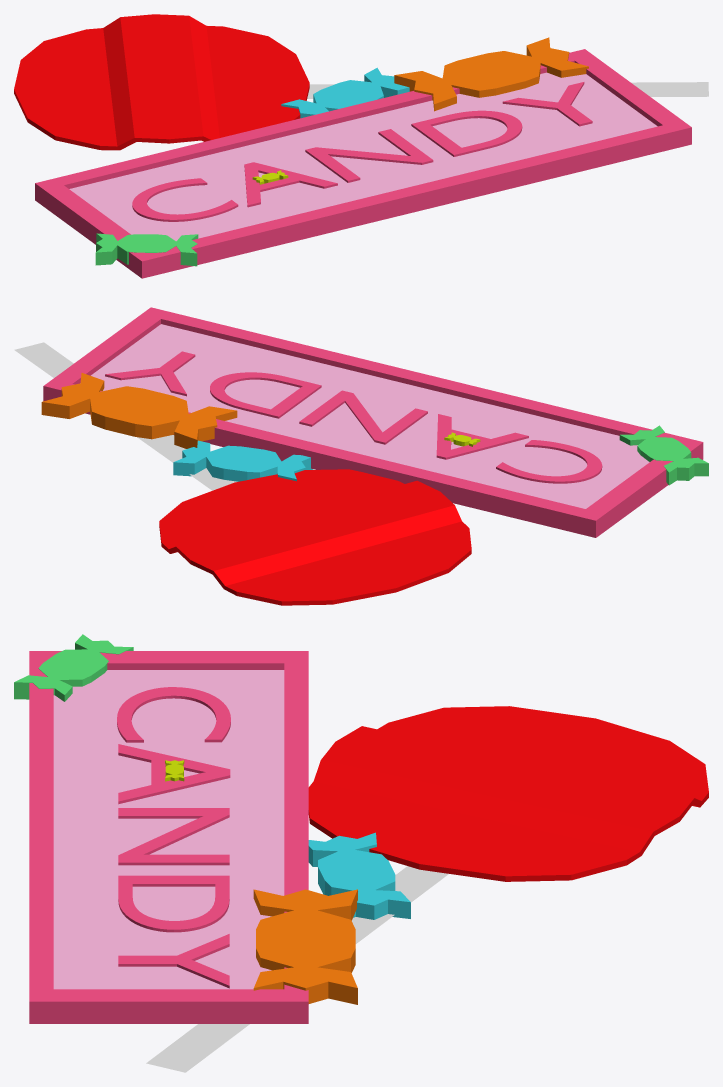
File: CandySighn.fbx
The picture shows the model from 3 angles, top to bottom: view 1: azimuth 30°, elevation 25°; view 2: azimuth 150°, elevation 25°; view 3: azimuth 270°, elevation 25°; orthographic projection. The views are drawn at different scales.
Visible parts, largest first — view 1: Plane, Plane.003, Plane.001, Text, Plane.004, Plane.005, Plane.007, Plane.002; view 2: Plane, Plane.003, Plane.001, Text, Plane.004, Plane.005, Plane.007, Plane.002; view 3: Plane, Plane.003, Plane.001, Text, Plane.004, Plane.005, Plane.002, Plane.007.
Part boxes in pixels (box(x1,y1,x2,y2)): Plane: box(69, 72, 657, 241); Plane.003: box(14, 14, 309, 150); Plane.001: box(35, 49, 691, 278); Text: box(132, 82, 592, 221); Plane.004: box(394, 37, 588, 111); Plane.005: box(281, 67, 409, 118); Plane.007: box(95, 233, 198, 266); Plane.002: box(307, 82, 708, 98); Plane: box(91, 324, 649, 508); Plane.003: box(159, 469, 471, 605); Plane.001: box(43, 307, 703, 537); Text: box(105, 351, 602, 483); Plane.004: box(41, 373, 237, 448); Plane.005: box(173, 440, 313, 481); Plane.007: box(619, 425, 708, 485); Plane.002: box(14, 342, 237, 490); Plane: box(53, 670, 284, 989); Plane.003: box(308, 706, 708, 881); Plane.001: box(29, 651, 308, 1023); Text: box(117, 687, 230, 988); Plane.004: box(253, 889, 357, 1004); Plane.005: box(308, 832, 410, 919); Plane.002: box(146, 866, 448, 1072); Plane.007: box(14, 634, 133, 701).
Bounding box in the file's own units: 791 × 24.48 × 559.
